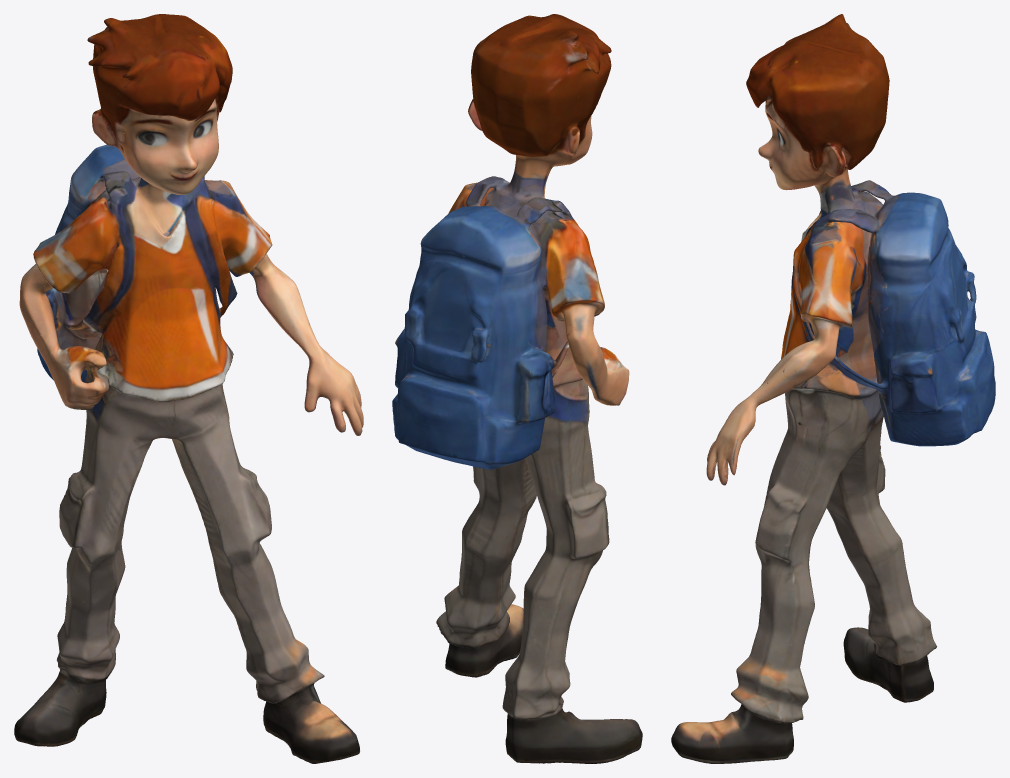
The model's file is Adventurous_Explorer_1218131333_texture.fbx.
3 renders of one model, left to right at view 1: azimuth 30°, elevation 25°; view 2: azimuth 150°, elevation 25°; view 3: azimuth 270°, elevation 25°, orthographic. The views are drawn at different scales.
Visible parts, largest first — view 1: Mesh1_Mesh1.123; view 2: Mesh1_Mesh1.123; view 3: Mesh1_Mesh1.123.
Boxes of the visible parts, x1,y1,x2,y2 form: Mesh1_Mesh1.123: (14,14,363,763); Mesh1_Mesh1.123: (392,14,642,763); Mesh1_Mesh1.123: (671,14,995,763).
Size of the model in its own units: 79.65 by 200 by 86.96.
Materials: 1 (1 with a texture image).
